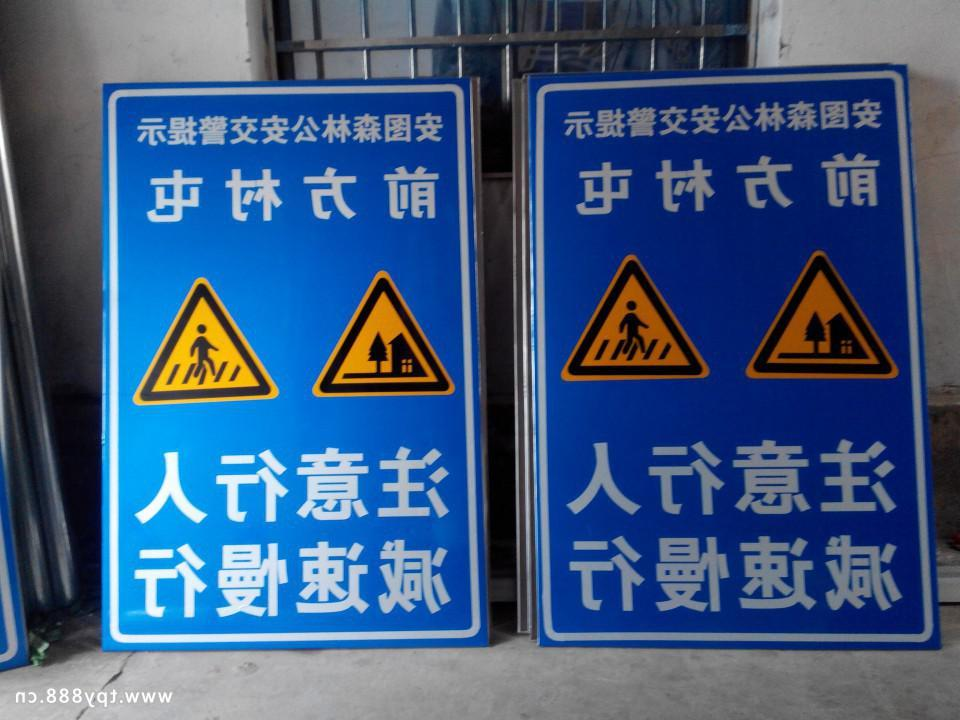sign: (533, 71, 924, 644), (107, 83, 470, 642)
